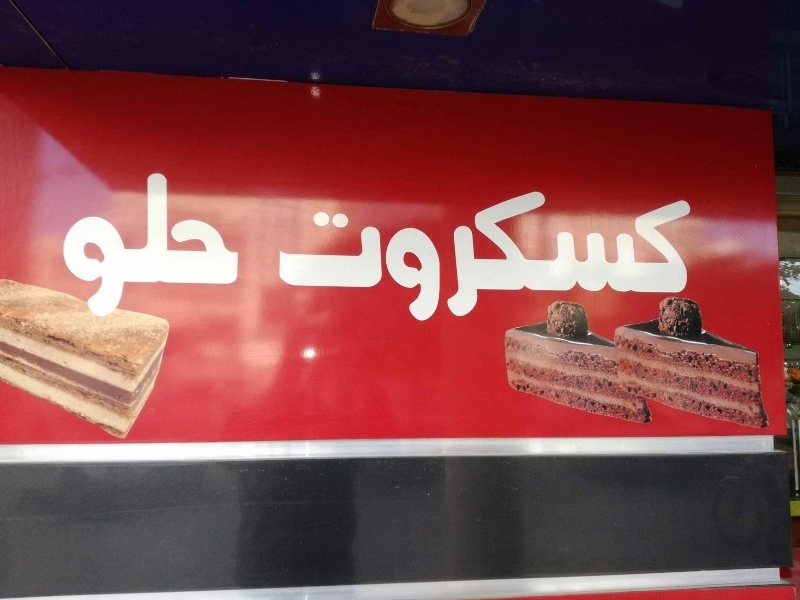text: (65, 170, 80, 319), (81, 170, 96, 319), (97, 170, 112, 319), (113, 170, 128, 319), (129, 170, 144, 319), (145, 170, 160, 319), (161, 170, 176, 319), (177, 170, 192, 319), (193, 170, 208, 319), (209, 170, 224, 319), (225, 170, 240, 319), (289, 187, 304, 325), (305, 187, 320, 325), (321, 187, 336, 325), (337, 187, 352, 325), (353, 187, 368, 325), (369, 187, 384, 325), (385, 187, 400, 325), (401, 187, 416, 325), (417, 187, 432, 325), (433, 187, 448, 325), (449, 187, 464, 325), (465, 187, 480, 325), (481, 187, 496, 325), (497, 187, 512, 325), (513, 187, 528, 325), (529, 187, 544, 325), (545, 187, 560, 325), (561, 187, 576, 325), (577, 187, 592, 325), (593, 187, 608, 325), (609, 187, 624, 325), (625, 187, 640, 325), (641, 187, 656, 325), (657, 187, 672, 325), (673, 187, 688, 325), (277, 187, 288, 325), (689, 187, 693, 325), (61, 170, 64, 319), (241, 170, 242, 319)
